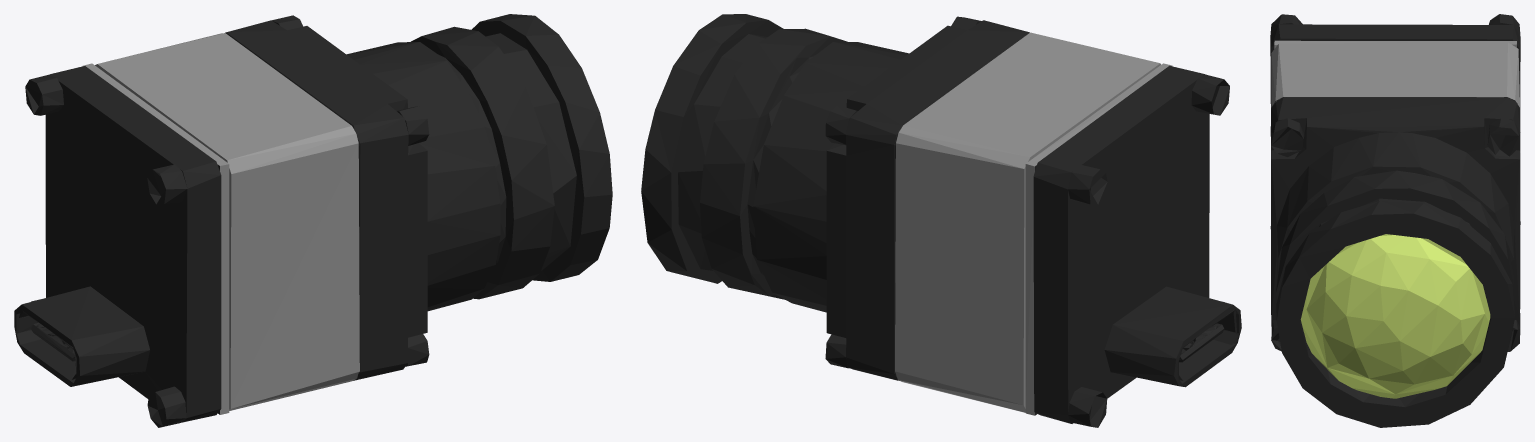
File: flir_boson.dae
3 renders of one model, left to right at view 1: azimuth 30°, elevation 25°; view 2: azimuth 150°, elevation 25°; view 3: azimuth 270°, elevation 25°, orthographic. The views are drawn at different scales.
Parts seen in each view (by area): view 1: node0.001, node0; view 2: node0.001, node0; view 3: node0.001, node0.003, node0.
Boxes of the visible parts, box(x1,y1,x2,y2) form: node0.001: box(14, 14, 612, 427); node0: box(83, 33, 359, 414); node0.001: box(641, 14, 1241, 427); node0: box(895, 32, 1171, 415); node0.001: box(1270, 14, 1520, 427); node0.003: box(1300, 234, 1490, 398); node0: box(1271, 40, 1519, 107).
Size of the model in its own units: 0.0443 by 0.0211 by 0.021.
